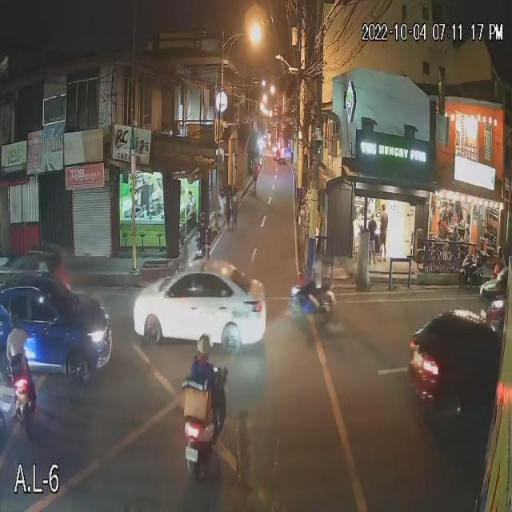helmet: (196, 334, 211, 358), (10, 308, 20, 332)
motorcycle: (184, 372, 230, 475), (6, 359, 38, 434)
rider: (184, 330, 214, 420), (8, 306, 24, 382)
